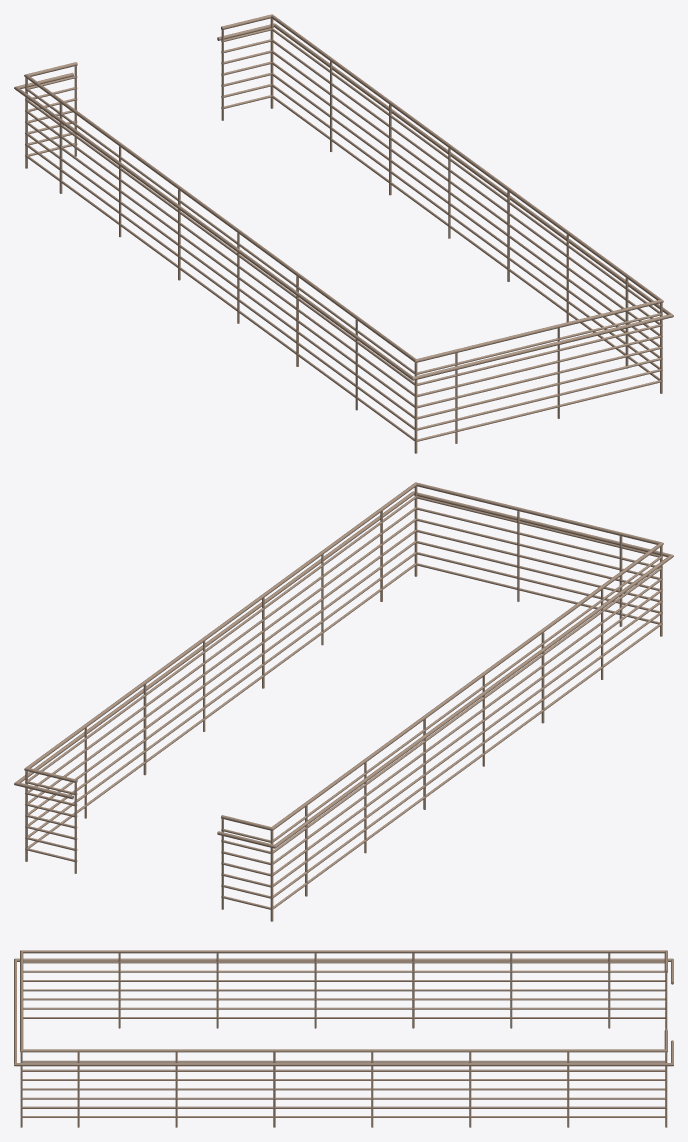
3 views of the same model, one above another, from view 1: azimuth 30°, elevation 25°; view 2: azimuth 150°, elevation 25°; view 3: azimuth 270°, elevation 25° (orthographic). The views are drawn at different scales.
Parts seen in each view (by area): view 1: mesh; view 2: mesh; view 3: mesh.
Boxes of the visible parts, left/top/right/bottom form: mesh: left=14, top=14, right=673, bottom=453; mesh: left=14, top=482, right=673, bottom=921; mesh: left=14, top=950, right=673, bottom=1127.
Bounding box in the file's own units: 3.11 × 1.07 × 8.21.
